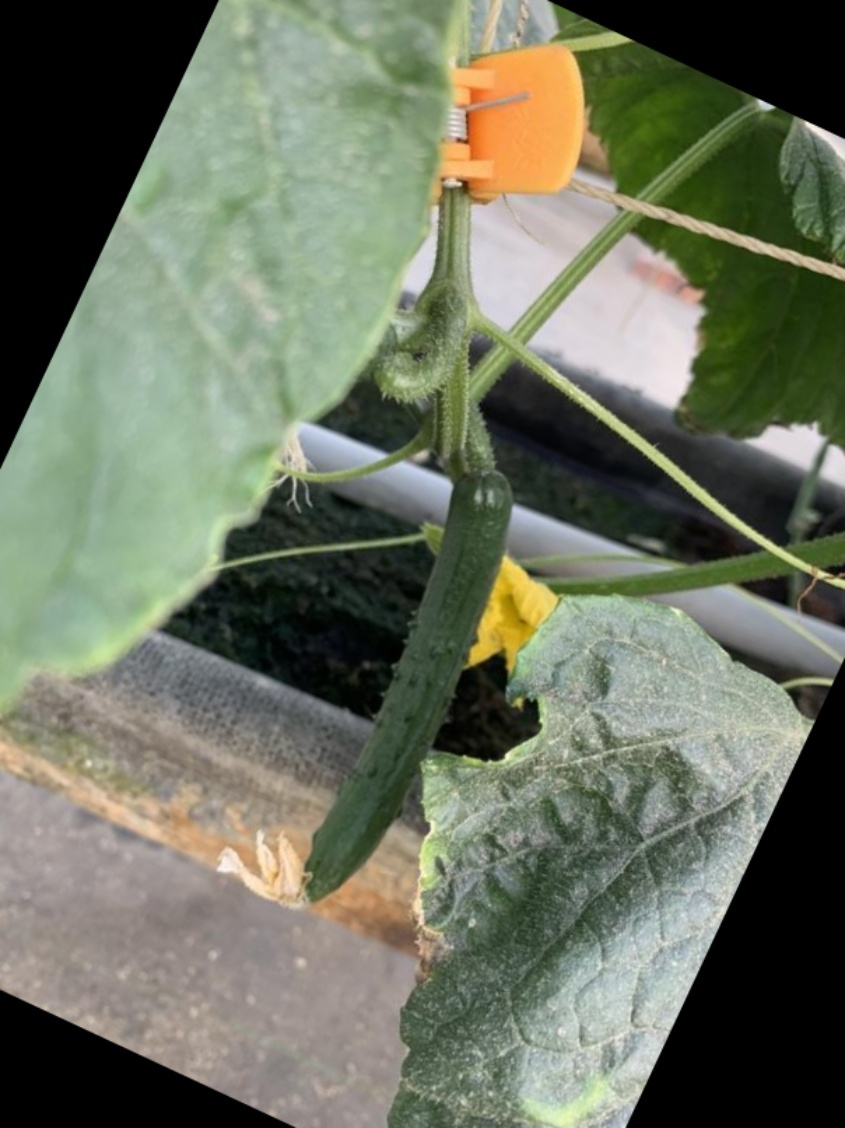mature: (284, 456, 520, 906)
